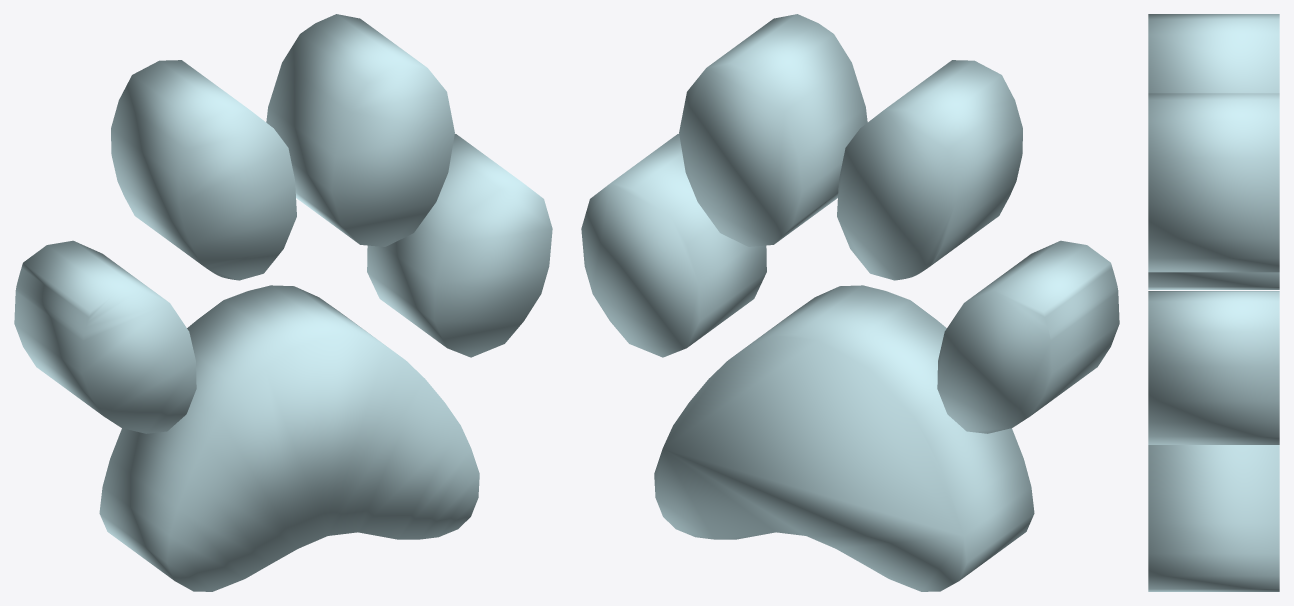
The picture shows the model from 3 angles, left to right: view 1: azimuth 30°, elevation 25°; view 2: azimuth 150°, elevation 25°; view 3: azimuth 270°, elevation 25°; orthographic projection. The views are drawn at different scales.
Parts seen in each view (by area): view 1: ColorMaterial; view 2: ColorMaterial; view 3: ColorMaterial.
Boxes of the visible parts, x1,y1,x2,y2 form: ColorMaterial: (14, 14, 552, 591); ColorMaterial: (581, 14, 1119, 591); ColorMaterial: (1148, 14, 1279, 591).
Bounding box in the file's own units: 40.29 × 39.45 × 10.
